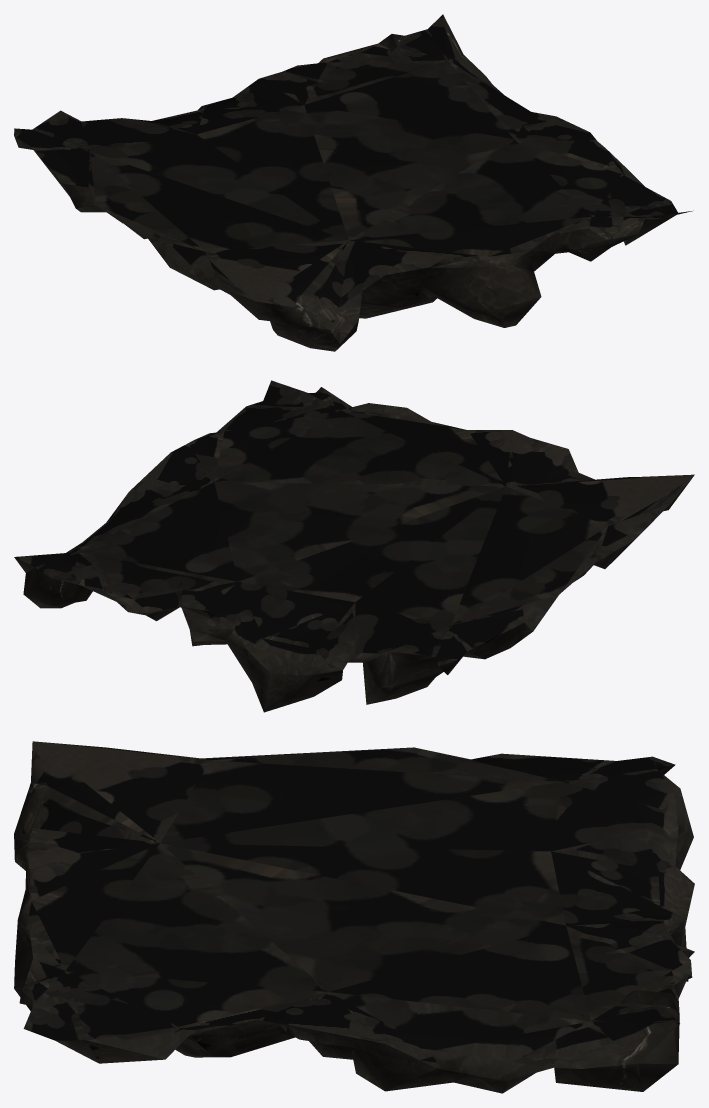
The model's file is blk_cave_ceiling.glb.
3 renders of one model, top to bottom at view 1: azimuth 30°, elevation 25°; view 2: azimuth 150°, elevation 25°; view 3: azimuth 270°, elevation 25°, orthographic. The views are drawn at different scales.
Visible parts, largest first — view 1: output_unwrapped; view 2: output_unwrapped; view 3: output_unwrapped.
Part boxes in pixels (<box>): output_unwrapped: <box>14,14,693,351</box>; output_unwrapped: <box>14,380,694,712</box>; output_unwrapped: <box>14,741,694,1093</box>.
Size of the model in its own units: 1.86 by 0.4041 by 1.89.
Materials: 1 (1 with a texture image).
